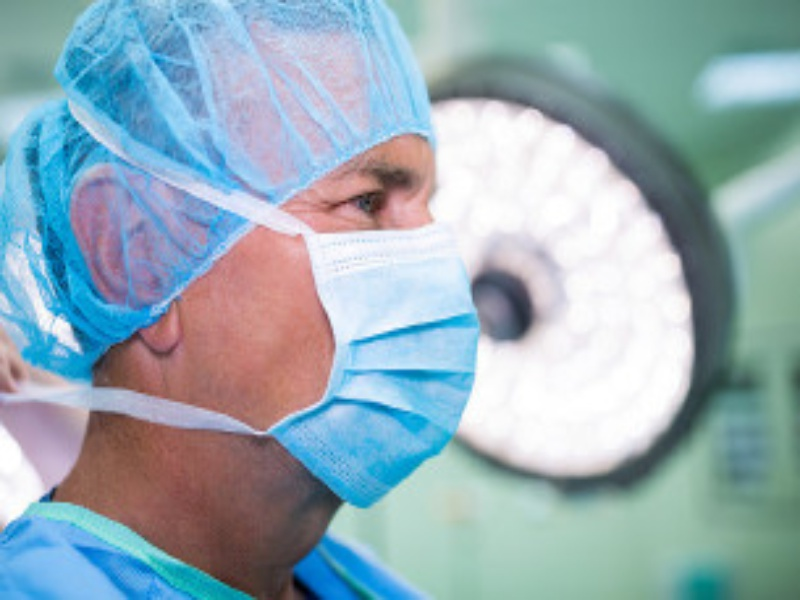mask: (33, 1, 484, 517)
